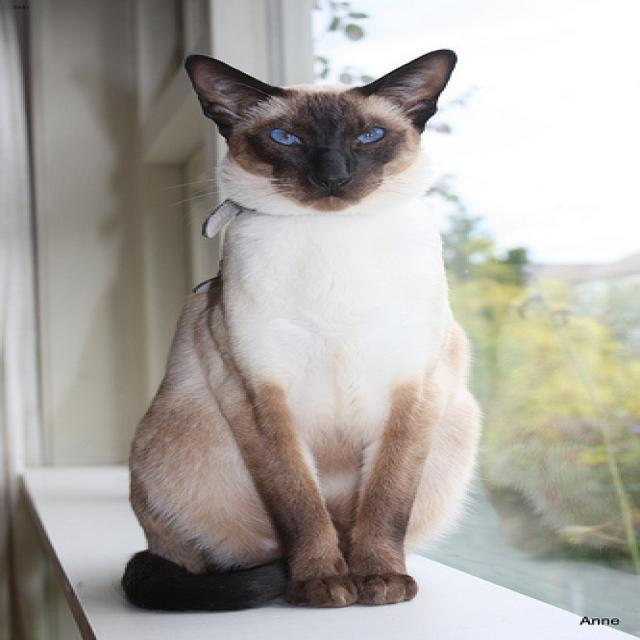Siamese: (179, 42, 460, 221)
